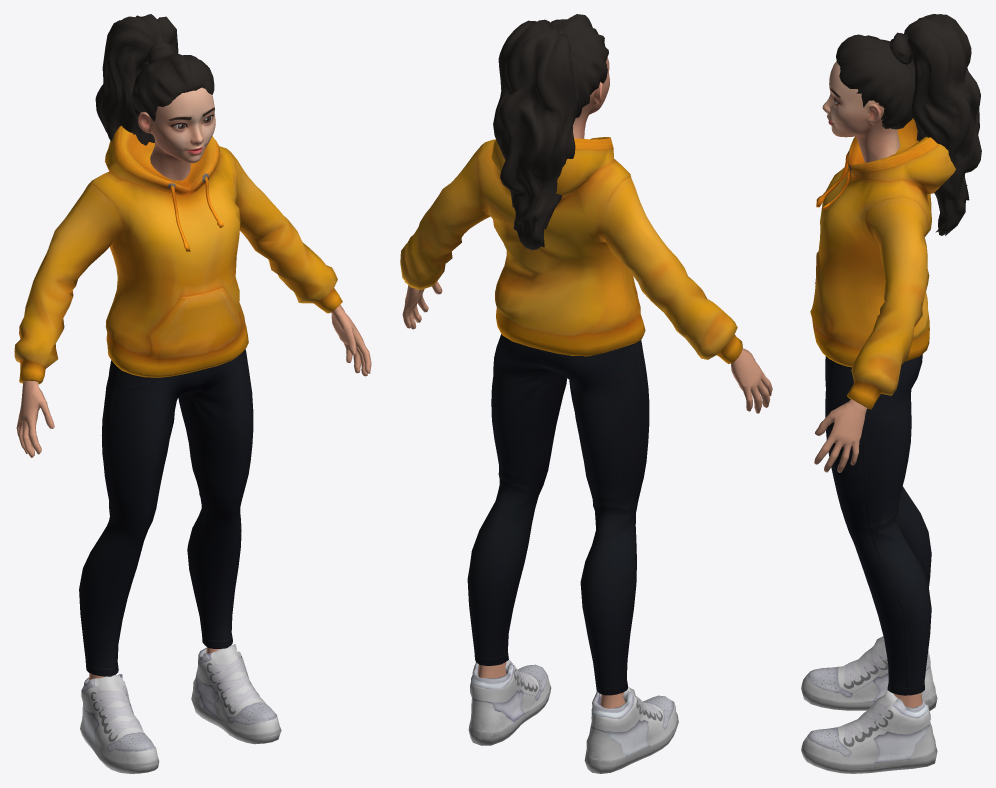
Rendered from female-avatar (2).glb.
3 renders of one model, left to right at view 1: azimuth 30°, elevation 25°; view 2: azimuth 150°, elevation 25°; view 3: azimuth 270°, elevation 25°, orthographic. The views are drawn at different scales.
Parts seen in each view (by area): view 1: Object_5, Object_7, Object_3, Object_6, Object_4, Object_2; view 2: Object_5, Object_7, Object_6, Object_3, Object_2, Object_4; view 3: Object_5, Object_7, Object_6, Object_3, Object_4, Object_2.
Part boxes in pixels (<box>): Object_5: <box>14,125,342,384</box>; Object_7: <box>79,349,253,676</box>; Object_3: <box>80,644,281,773</box>; Object_6: <box>95,14,214,145</box>; Object_4: <box>138,87,215,180</box>; Object_2: <box>16,305,371,679</box>; Object_5: <box>400,137,742,363</box>; Object_7: <box>467,334,649,695</box>; Object_6: <box>493,14,608,250</box>; Object_3: <box>468,659,678,773</box>; Object_2: <box>402,281,772,708</box>; Object_4: <box>573,57,609,138</box>; Object_5: <box>810,118,955,409</box>; Object_7: <box>825,354,931,695</box>; Object_6: <box>836,14,981,235</box>; Object_3: <box>801,636,937,773</box>; Object_4: <box>822,61,900,162</box>; Object_2: <box>814,282,922,707</box>.
Bounding box in the file's own units: 0.9279 × 1.82 × 0.4153.
8 materials, 8 textured.
